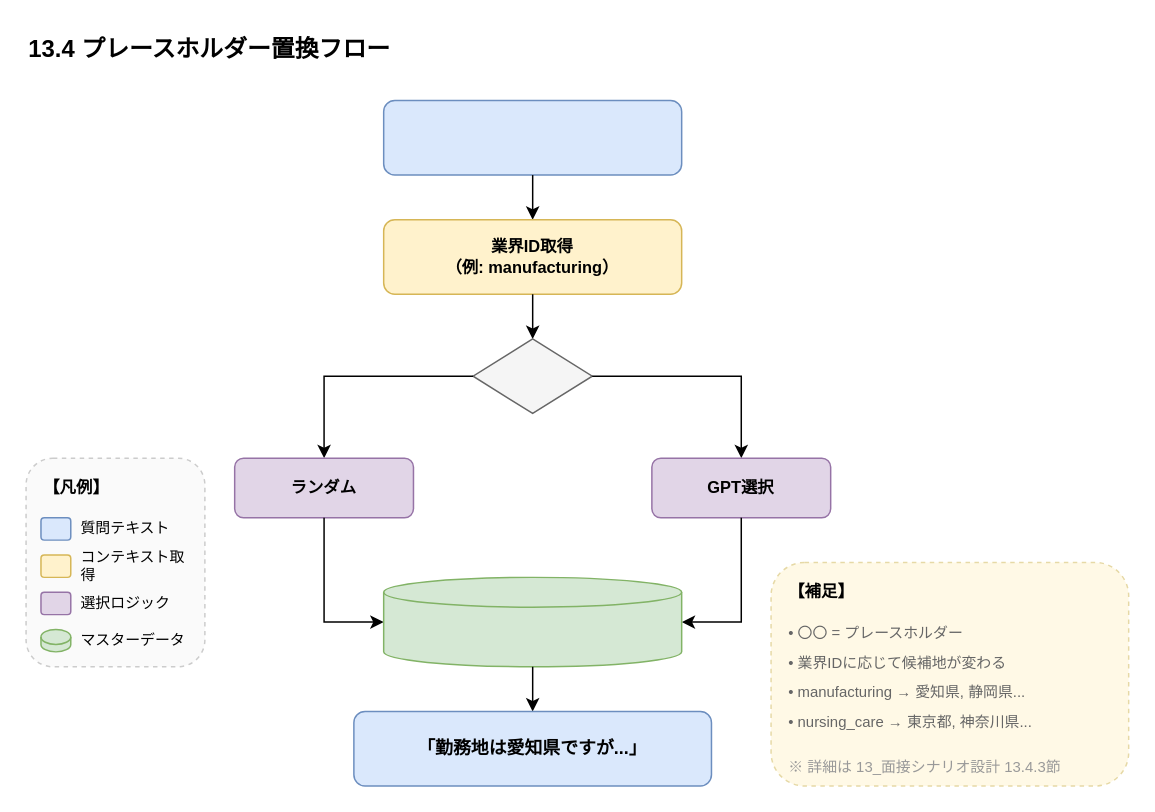
Image size: 1155x812. Some labels were removed from this diagram. Here are the shapes that lost their labels. From the top down, the box of each, then its label:
(382, 99, 682, 175): 質問テンプレート 「勤務地は〇〇ですが...」
(382, 576, 682, 667): マスターデータから選択 [愛知県, 静岡県, 大阪府]
